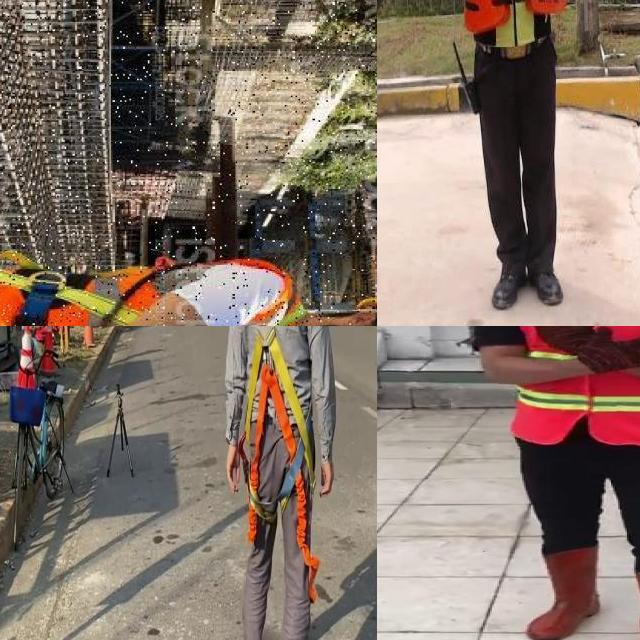Harness: (0, 251, 308, 326), (249, 364, 319, 572), (247, 326, 312, 466)
boots: (528, 546, 602, 640), (484, 256, 531, 314), (532, 259, 575, 315)
person: (387, 0, 620, 326), (460, 326, 640, 640)
vest: (500, 326, 640, 446), (459, 0, 571, 53)
